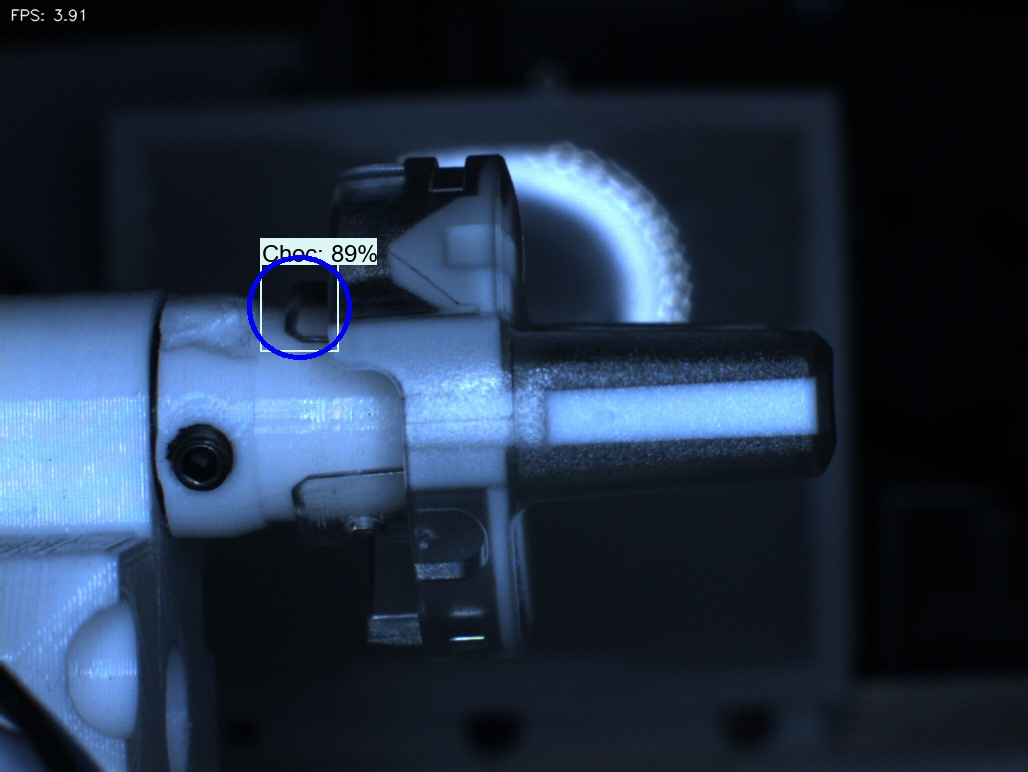DentOk: (363, 213, 437, 304)
